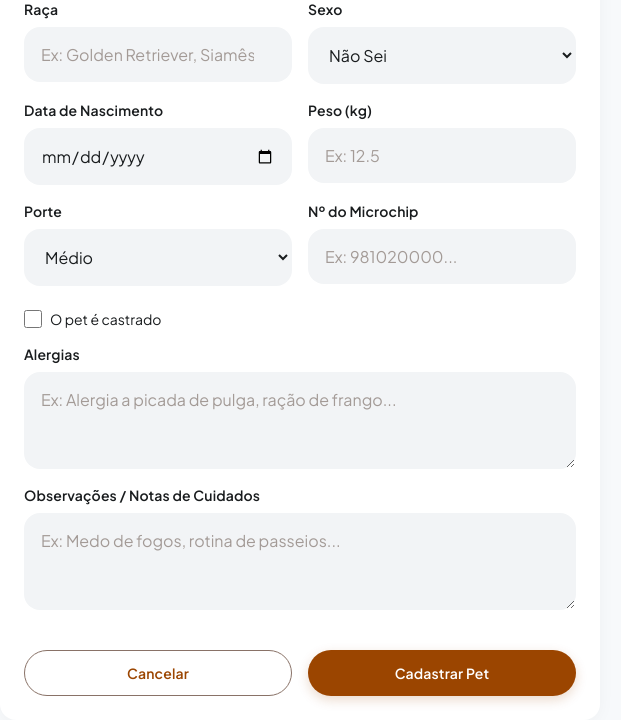
it: PetForm › should validate required fields before submit
(page scrolled)
Attempt to submit without filling name
What coordinates should you click on to do the following:
click the button with test id "btn-salvar-pet"
I would click on:
 (442, 673)
Its box is [308,650,576,696].
(page scrolled)
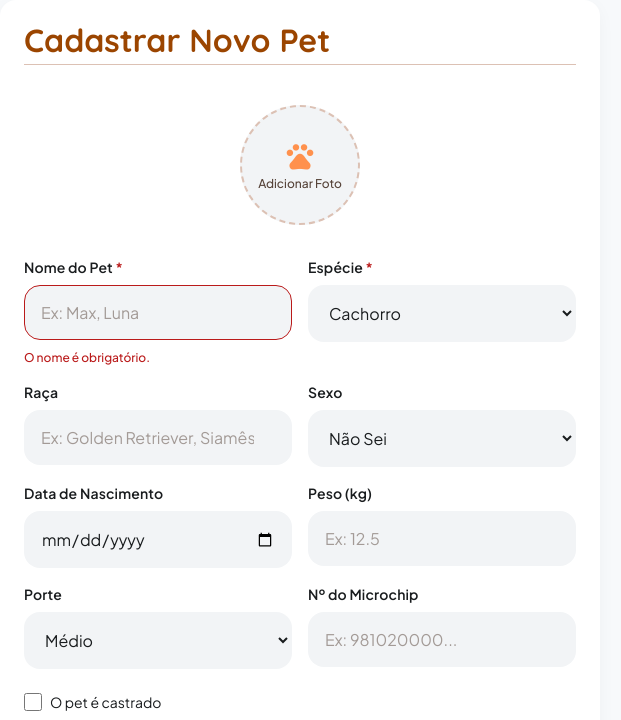
Result: the text "O nome é obrigatório." is shown at [24,350,150,365]
